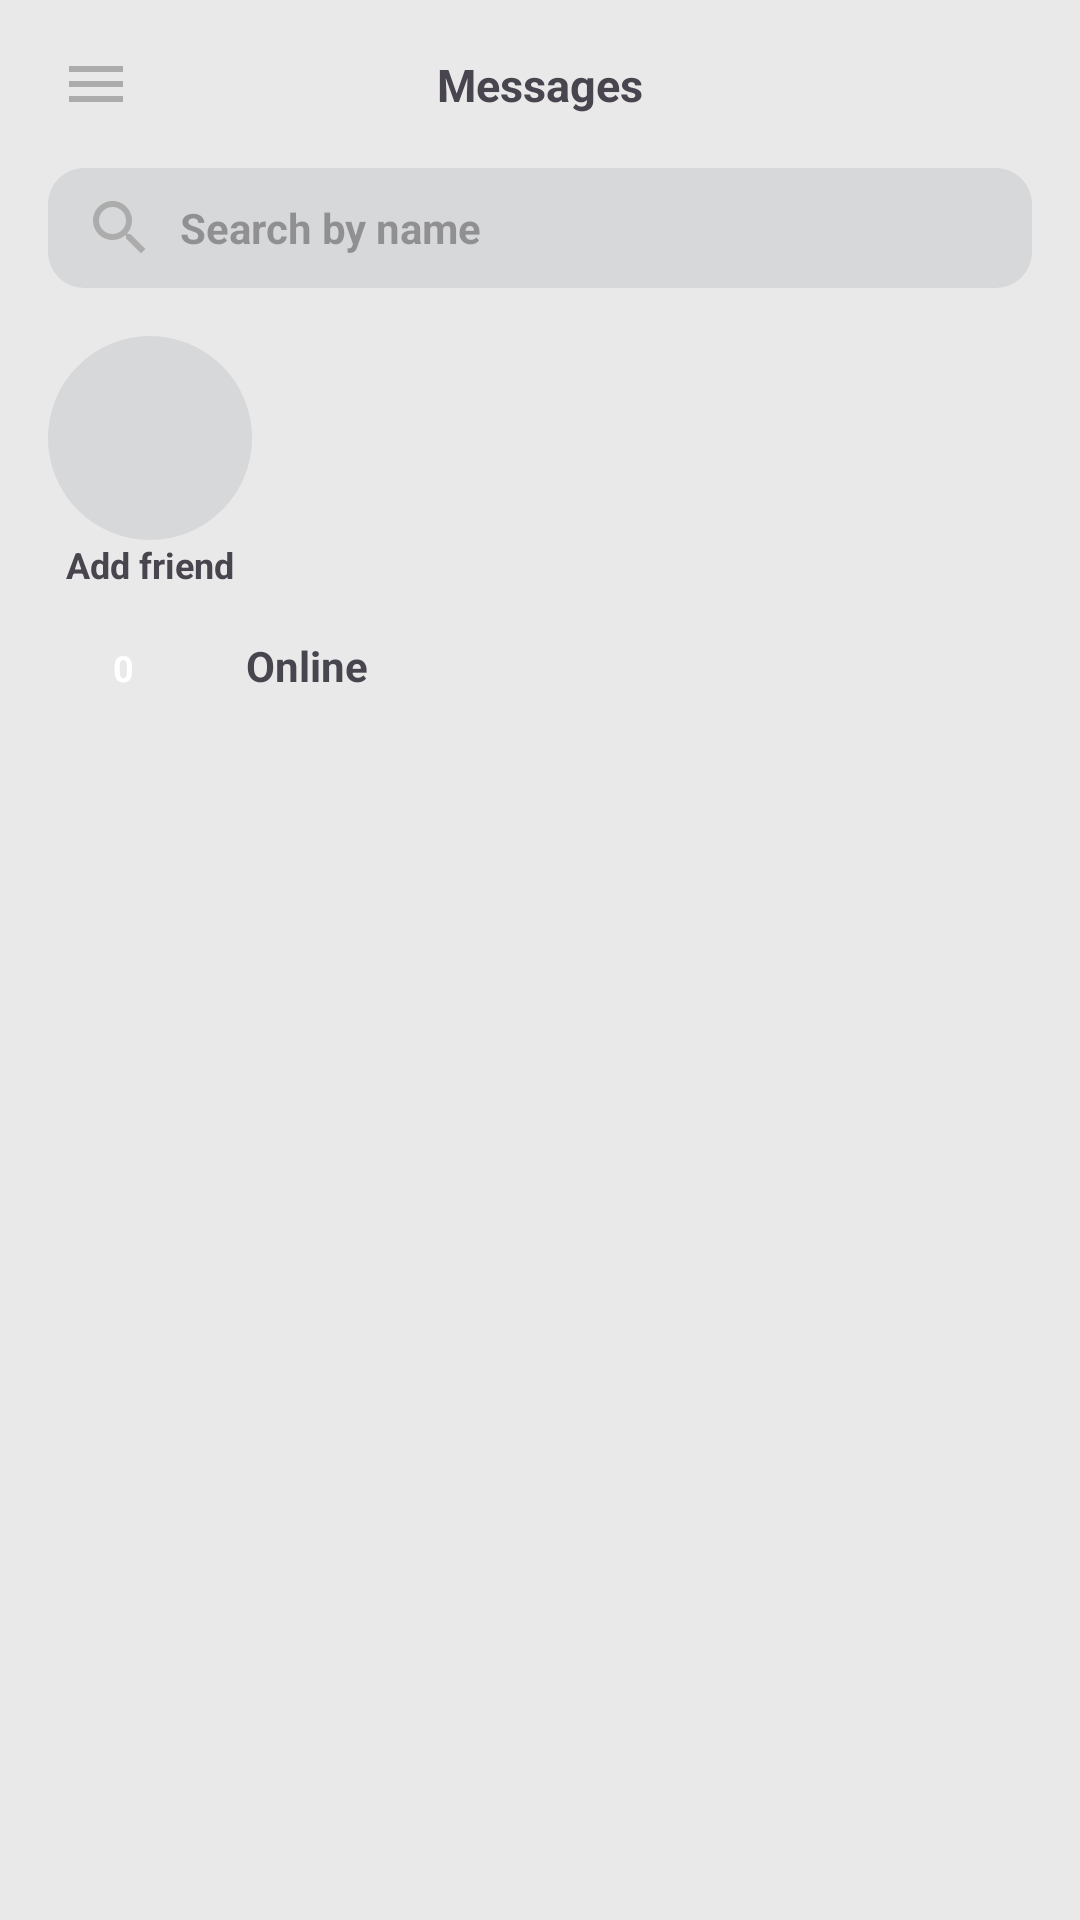

Where to tap for icons on this 1080*1920 app screen, as (x,y):
menu: (96,84)
